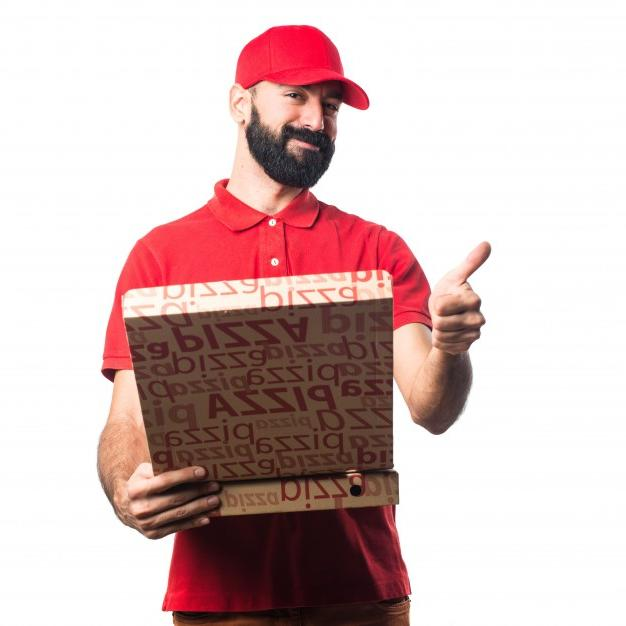thumbsup: (432, 241, 491, 355)
